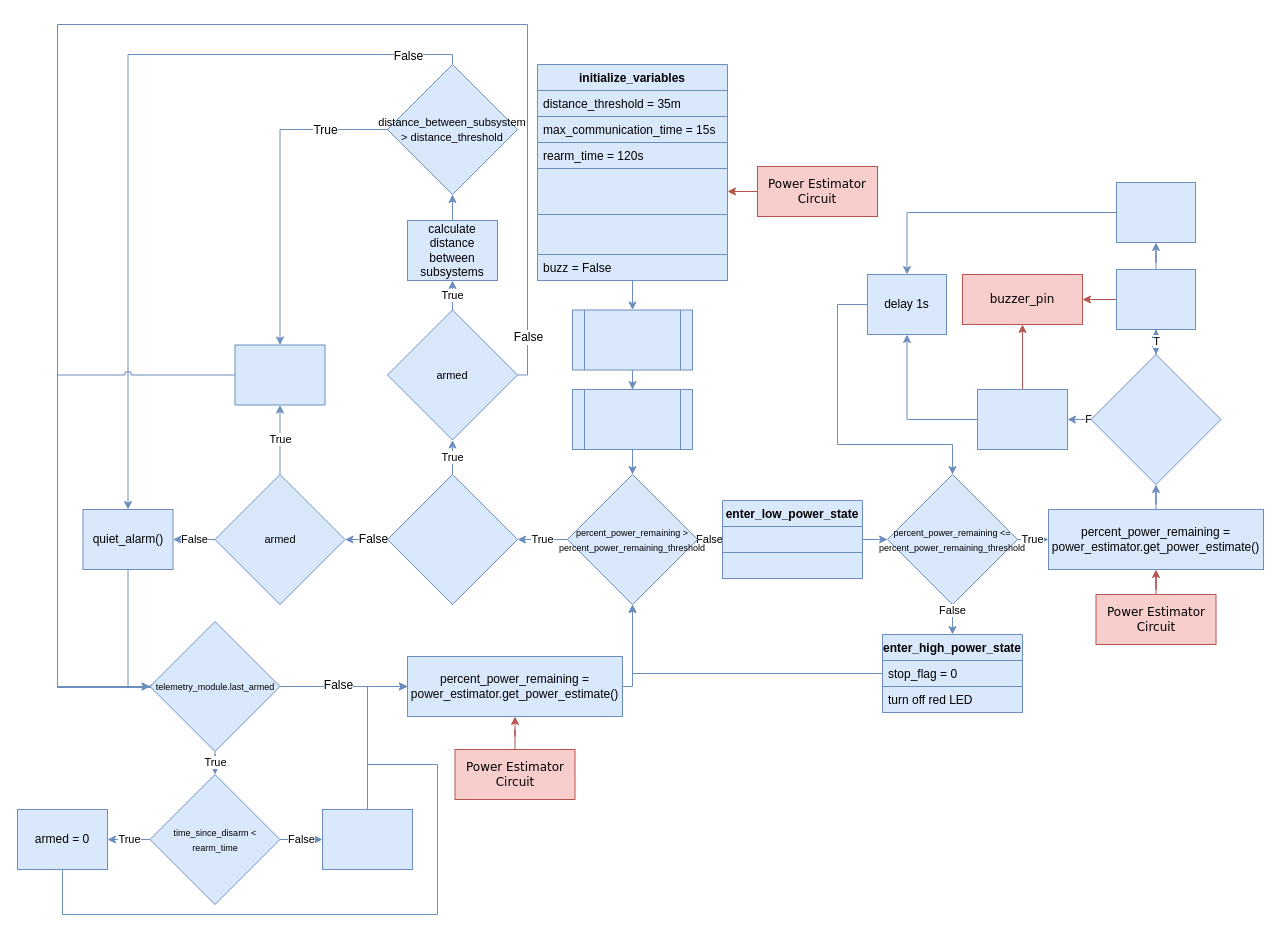
This 1281x940 diagram has some shape labels left out. The centre of each missing label's shape, as x and y in pixels:
armed = 1: point 367,839
buzz: point 1155,419
buzz = True: point 1156,212
percent_power_remaining = power_estimator.get_estimate(): point 632,191
percent_power_remaining_threshold = 75%: point 632,234
set_high(): point 1156,299
set_low(): point 1022,419
sound_alarm(): point 279,374
Start GPS Module Update Thread: point 632,339
Start Telemetry Module Listen Thread: point 632,419
stop_flag = 1: point 792,539
time_since_last_message < max_communication_time: point 452,539
turn on red LED: point 792,565
